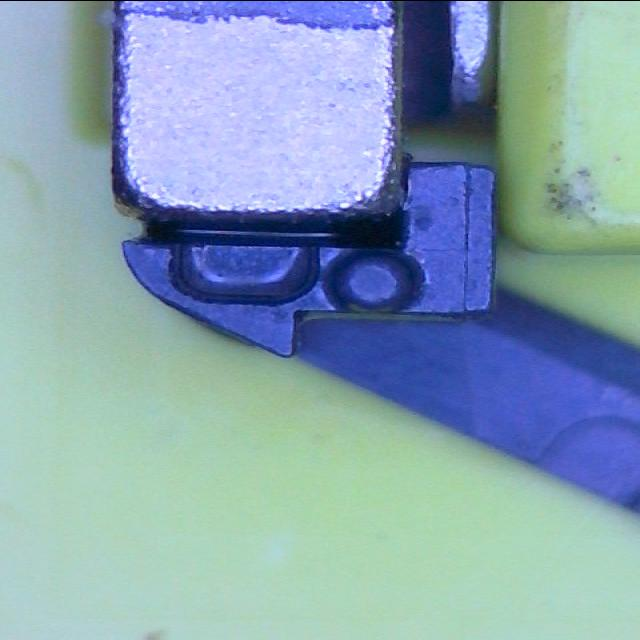good: (168, 235, 321, 303)
